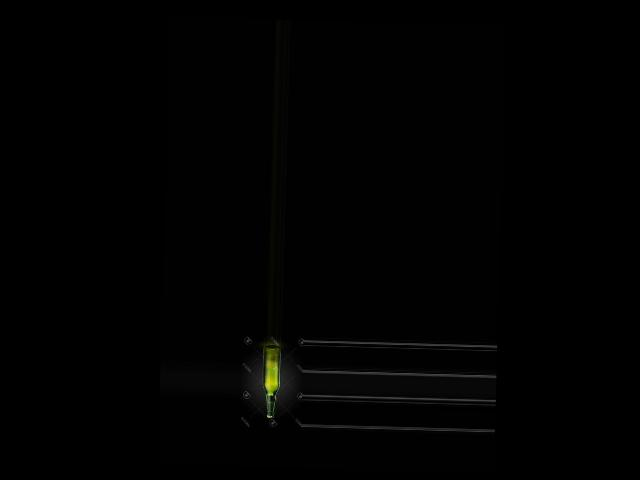beer: (262, 345, 281, 418)
